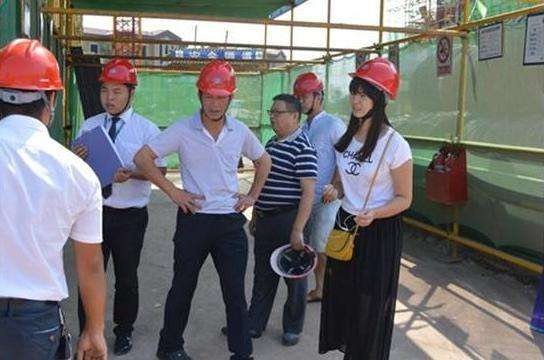none: (268, 92, 300, 133)
red: (3, 33, 62, 124), (348, 58, 399, 116), (196, 57, 237, 120), (95, 58, 140, 113), (294, 73, 325, 113)
